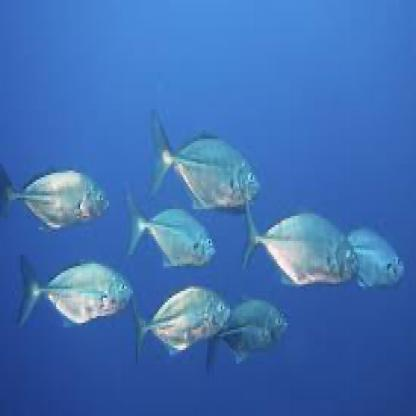jack: (137, 74, 261, 217), (234, 187, 363, 292), (12, 244, 134, 340), (118, 181, 215, 276), (1, 153, 112, 236), (133, 278, 230, 367)
